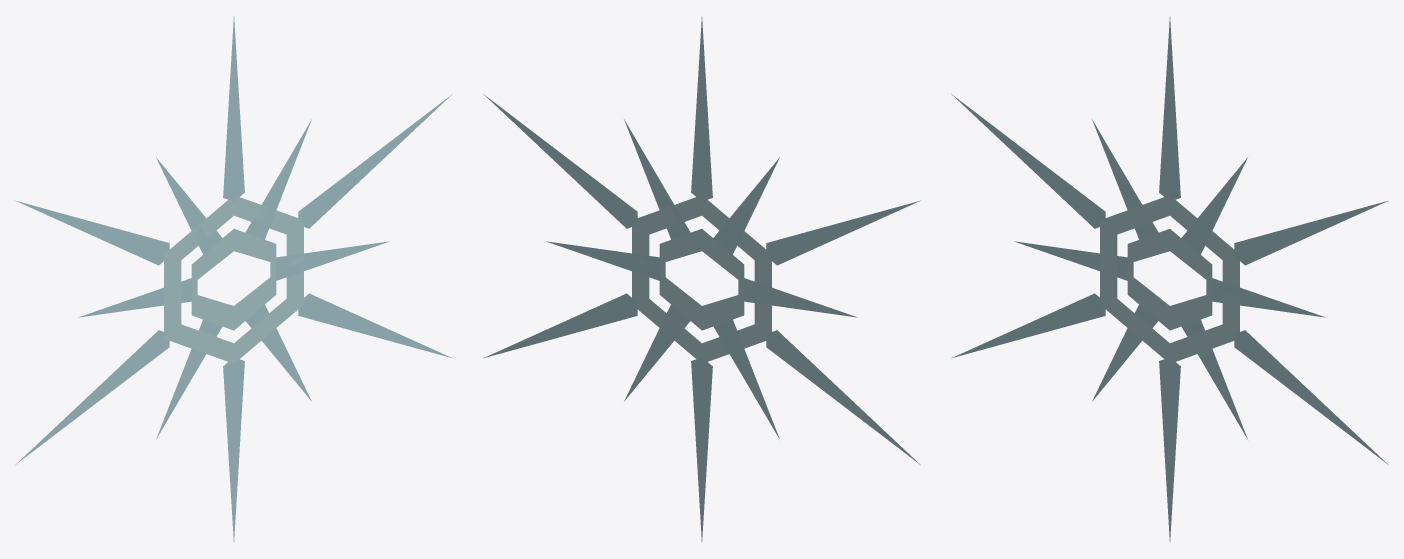
The model's file is SnowflakeEntityFlat.glb.
3 renders of one model, left to right at view 1: azimuth 30°, elevation 25°; view 2: azimuth 150°, elevation 25°; view 3: azimuth 330°, elevation 25°, orthographic.
Visible parts, largest first — view 1: FlatSpikes, FlatCentralEye; view 2: FlatSpikes, FlatCentralEye; view 3: FlatSpikes, FlatCentralEye.
Part boxes in pixels (left/top/right/bottom): FlatSpikes: left=15, top=17, right=452, bottom=541; FlatCentralEye: left=164, top=197, right=303, bottom=363; FlatSpikes: left=483, top=17, right=920, bottom=541; FlatCentralEye: left=632, top=195, right=771, bottom=361; FlatSpikes: left=951, top=17, right=1388, bottom=541; FlatCentralEye: left=1100, top=195, right=1239, bottom=363.
Bounding box in the file's own units: 5.87 × 6.78 × 9.92e-07.
